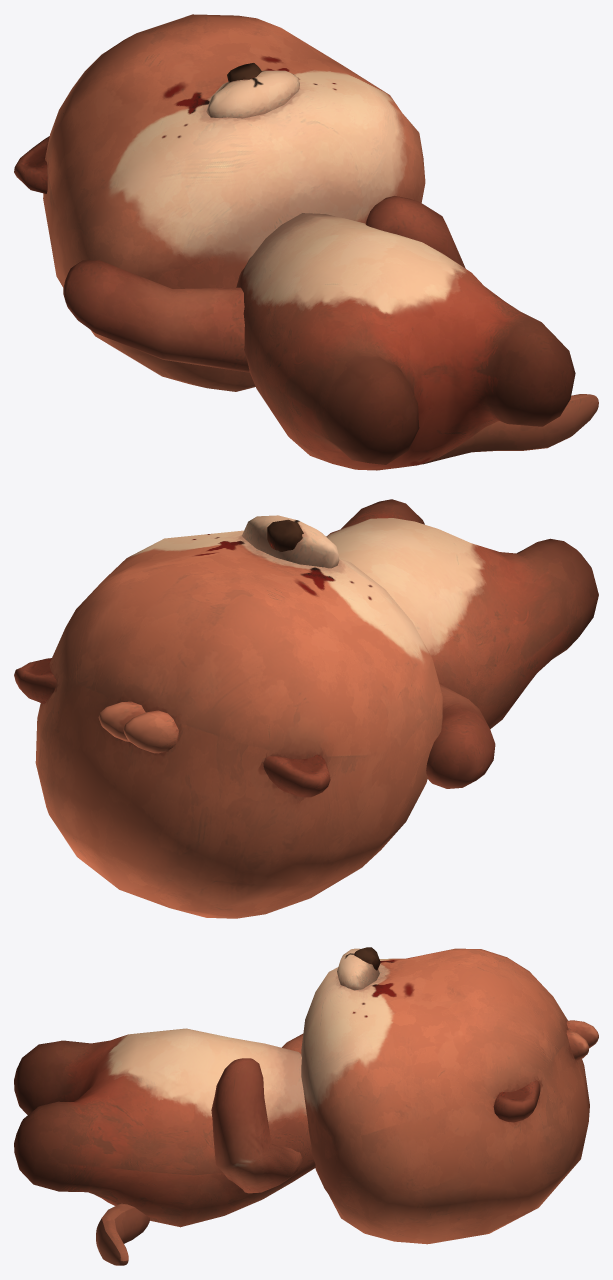
File: Ottis_Sleep.fbx
3 renders of one model, top to bottom at view 1: azimuth 30°, elevation 25°; view 2: azimuth 150°, elevation 25°; view 3: azimuth 270°, elevation 25°, orthographic. The views are drawn at different scales.
Parts seen in each view (by area): view 1: Sleep; view 2: Sleep; view 3: Sleep.
Boxes of the visible parts, bbox=[...] form: Sleep: bbox=[14, 14, 598, 470]; Sleep: bbox=[14, 499, 598, 918]; Sleep: bbox=[14, 947, 598, 1265].
Size of the model in its own units: 2.21 by 1.83 by 3.51.
